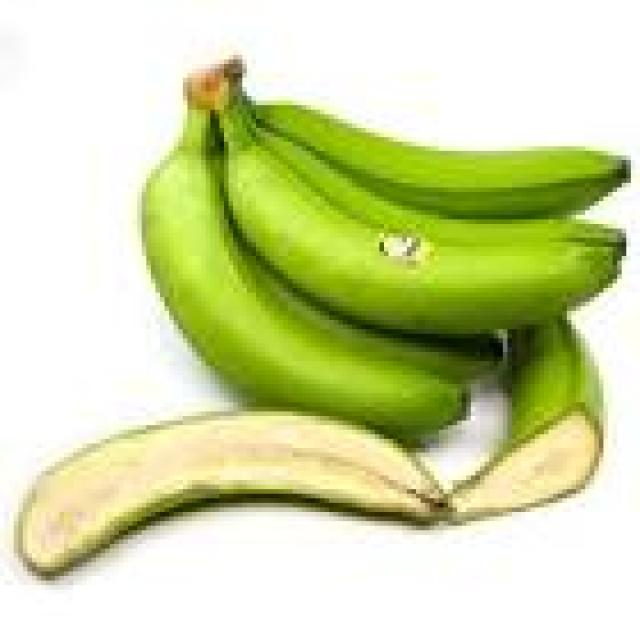banana: (142, 106, 470, 443), (197, 78, 621, 333), (19, 412, 443, 575), (256, 119, 617, 242), (256, 106, 630, 219), (243, 247, 502, 383), (448, 320, 603, 521)
